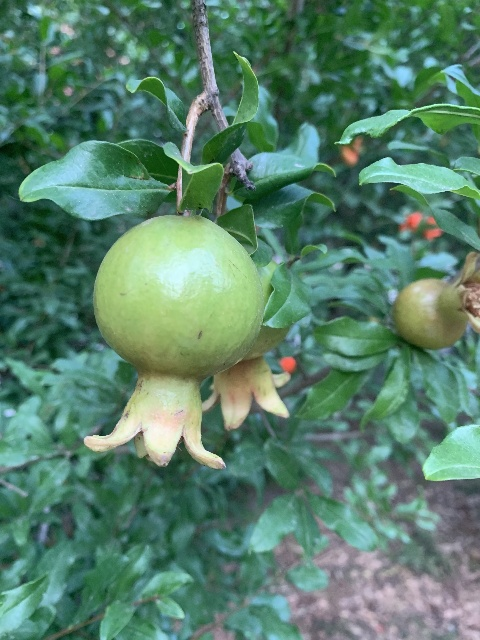mid-growth: (79, 214, 264, 468), (202, 259, 291, 430), (392, 250, 480, 350)
